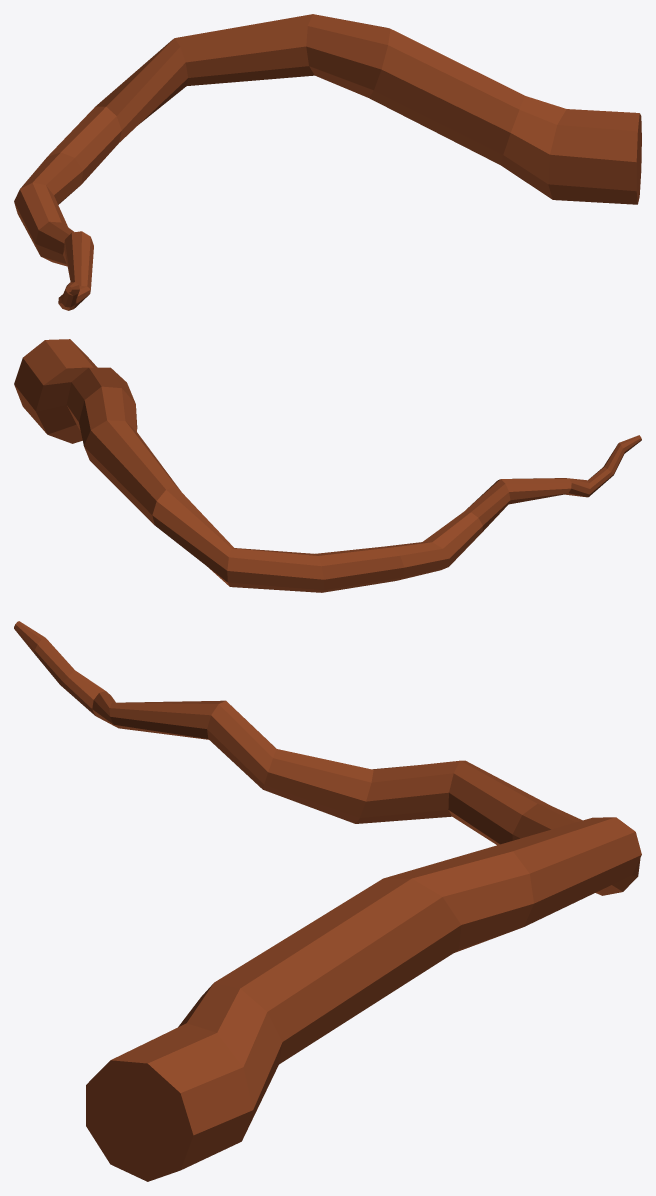
Rendered from Roots_2.gltf.
3 renders of one model, top to bottom at view 1: azimuth 30°, elevation 25°; view 2: azimuth 150°, elevation 25°; view 3: azimuth 270°, elevation 25°, orthographic. The views are drawn at different scales.
Visible parts, largest first — view 1: Cylinder; view 2: Cylinder; view 3: Cylinder.
Part boxes in pixels (<box>): Cylinder: <box>14,14,641,310</box>; Cylinder: <box>14,339,641,592</box>; Cylinder: <box>14,621,641,1181</box>.
Bounding box in the file's own units: 2.94 × 0.6154 × 1.77.
